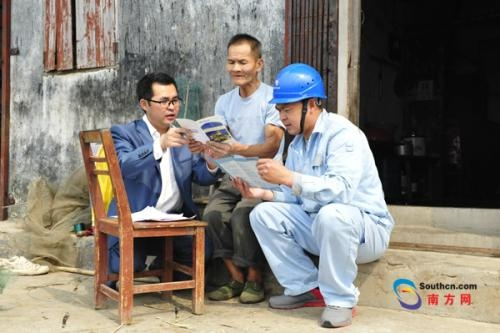blue: (272, 63, 327, 134)
none: (134, 72, 180, 124), (224, 34, 264, 89)
